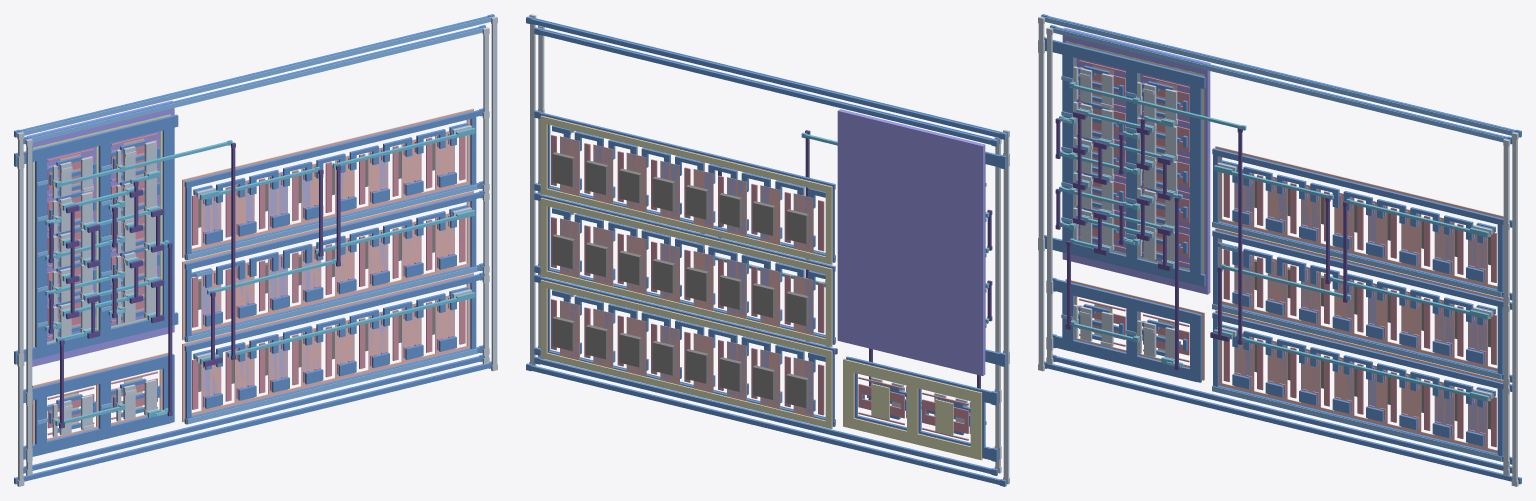
File: OTA_all_layers.gds.gltf
The picture shows the model from 3 angles, left to right: view 1: azimuth 30°, elevation 25°; view 2: azimuth 150°, elevation 25°; view 3: azimuth 330°, elevation 25°; orthographic projection.
Parts seen in each view (by area): view 1: OTA_MET1, LELOTR_RES16_PSD (×3), LELOTR_RES16_MET1 (×3), LELOTR_RES16_POLY (×3), OTA_MET2, LELOTR_RPPO16_MET1 (×3), LELOATR_PCH_4C5F0_MET1 (×10), OTA_MET3, LELOATR_PCH_4C5F0_MET2 (×10), LELOTR_RPPO16_PSD (×3), OTA_MET4, LELOTR_RES16_NSD (×3) (+12 smaller); view 2: LELOATR_PCH_4C5F0_NWELL (×10), OTA_MET1, LELOTR_RES16_SBLK (×3), LELOTR_RPPO16_DIFF (×3), LELOTR_RES16_PSD (×3), LELOTR_RES16_NSD (×3), OTA_MET2, LELOTR_RES16_MET1 (×3), LELOTR_RES16_POLY (×3), LELOATR_PCH_4CTAPTOP_NWELL (×2), LELOATR_PCH_4CTAPBOT_NWELL (×2), LELOTR_RPPO16_MET1 (×3) (+7 smaller); view 3: OTA_MET1, LELOTR_RES16_PSD (×3), LELOTR_RES16_MET1 (×3), LELOTR_RES16_POLY (×3), OTA_MET2, LELOTR_RPPO16_MET1 (×3), OTA_MET3, LELOATR_PCH_4C5F0_MET1 (×10), LELOTR_RES16_NSD (×3), LELOATR_PCH_4C5F0_MET2 (×10), OTA_MET4, LELOTR_RPPO16_PSD (×3) (+12 smaller).
Part boxes in pixels (left/top/right/bottom): OTA_MET1: left=14, top=14, right=494, bottom=484; LELOTR_RES16_PSD (×3): left=201, top=131, right=454, bottom=408; LELOTR_RES16_MET1 (×3): left=195, top=124, right=467, bottom=408; LELOTR_RES16_POLY (×3): left=192, top=133, right=465, bottom=409; OTA_MET2: left=17, top=16, right=497, bottom=486; LELOTR_RPPO16_MET1 (×3): left=185, top=113, right=476, bottom=423; LELOATR_PCH_4C5F0_MET1 (×10): left=35, top=131, right=174, bottom=343; OTA_MET3: left=45, top=127, right=475, bottom=426; LELOATR_PCH_4C5F0_MET2 (×10): left=52, top=141, right=156, bottom=339; LELOTR_RPPO16_PSD (×3): left=182, top=109, right=473, bottom=422; OTA_MET4: left=48, top=142, right=340, bottom=428; LELOTR_RES16_NSD (×3): left=201, top=136, right=454, bottom=407; LELOATR_PCH_4C5F0_NWELL (×10): left=837, top=133, right=985, bottom=354; OTA_MET1: left=526, top=16, right=1006, bottom=486; LELOTR_RES16_SBLK (×3): left=552, top=152, right=808, bottom=408; LELOTR_RPPO16_DIFF (×3): left=540, top=116, right=832, bottom=428; LELOTR_RES16_PSD (×3): left=560, top=136, right=813, bottom=414; LELOTR_RES16_NSD (×3): left=560, top=136, right=813, bottom=414; OTA_MET2: left=529, top=14, right=1009, bottom=484; LELOTR_RES16_MET1 (×3): left=552, top=128, right=822, bottom=411; LELOTR_RES16_POLY (×3): left=551, top=135, right=824, bottom=415; LELOATR_PCH_4CTAPTOP_NWELL (×2): left=837, top=109, right=985, bottom=177; LELOATR_PCH_4CTAPBOT_NWELL (×2): left=837, top=309, right=985, bottom=375; LELOTR_RPPO16_MET1 (×3): left=544, top=115, right=834, bottom=425; OTA_MET1: left=1041, top=14, right=1521, bottom=484; LELOTR_RES16_PSD (×3): left=1234, top=169, right=1487, bottom=445; LELOTR_RES16_MET1 (×3): left=1222, top=166, right=1493, bottom=446; LELOTR_RES16_POLY (×3): left=1223, top=173, right=1496, bottom=447; OTA_MET2: left=1038, top=16, right=1518, bottom=486; LELOTR_RPPO16_MET1 (×3): left=1213, top=151, right=1503, bottom=457; OTA_MET3: left=1059, top=82, right=1489, bottom=401; LELOATR_PCH_4C5F0_MET1 (×10): left=1062, top=58, right=1201, bottom=270; LELOTR_RES16_NSD (×3): left=1234, top=169, right=1487, bottom=445; LELOATR_PCH_4C5F0_MET2 (×10): left=1073, top=66, right=1177, bottom=261; OTA_MET4: left=1055, top=111, right=1347, bottom=370; LELOTR_RPPO16_PSD (×3): left=1215, top=146, right=1503, bottom=453.
Size of the model in its own units: 56.79 by 39.94 by 4.35.
